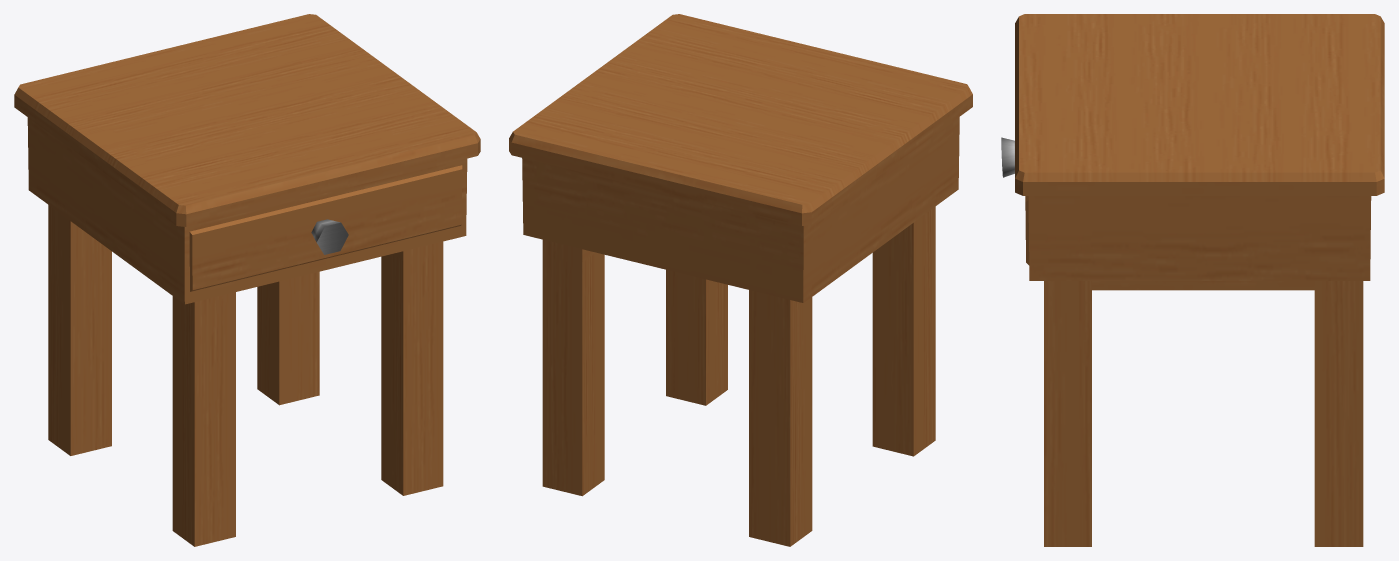
File: Basic_Endtable_G.FBX
3 views of the same model, side by side, from view 1: azimuth 30°, elevation 25°; view 2: azimuth 150°, elevation 25°; view 3: azimuth 270°, elevation 25° (orthographic). The views are drawn at different scales.
Visible parts, largest first — view 1: End Table; view 2: End Table; view 3: End Table.
Part boxes in pixels (box(x1,y1,x2,y2)): End Table: box(14, 14, 480, 546); End Table: box(509, 14, 972, 546); End Table: box(1001, 14, 1384, 546).
Size of the model in its own units: 88.66 by 98.76 by 88.61.
